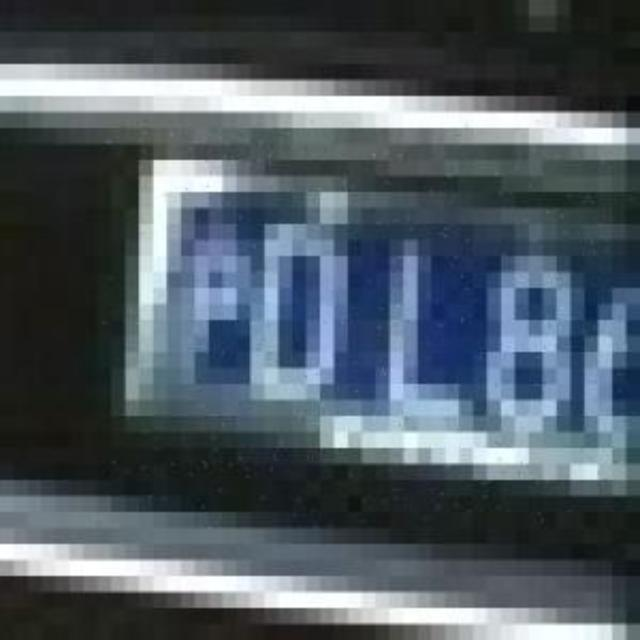License Plate: (98, 118, 640, 528)
